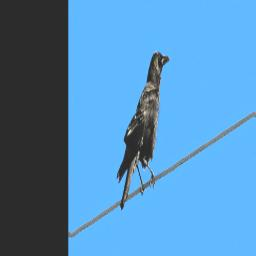Crow: (114, 48, 173, 211)
